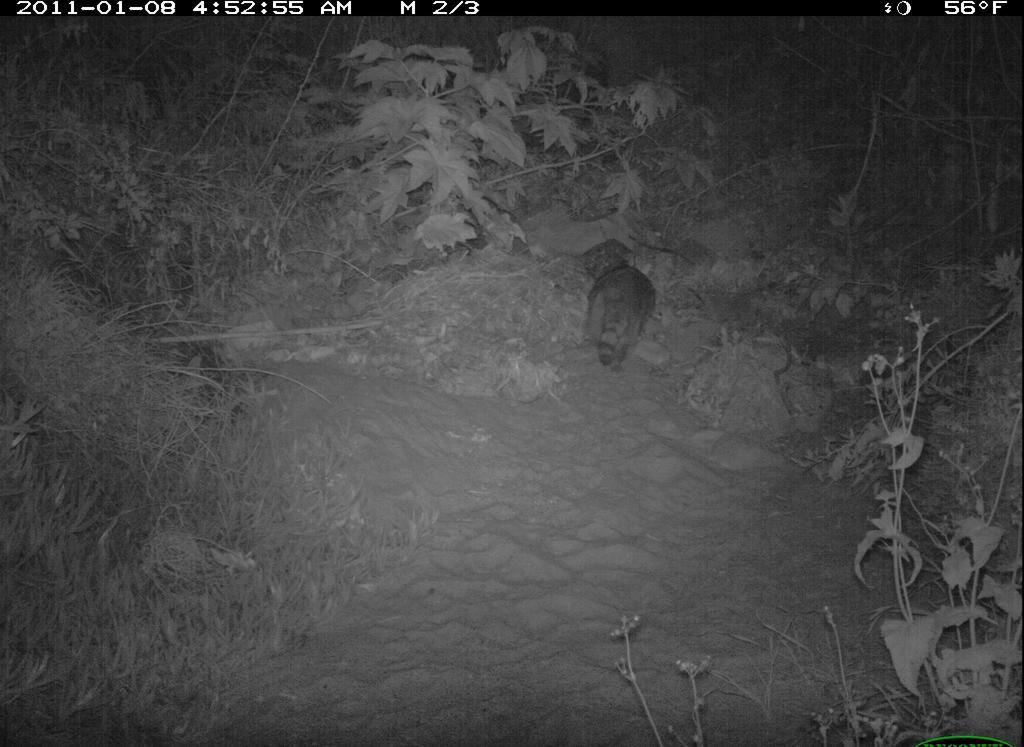raccoon: (575, 258, 667, 378)
